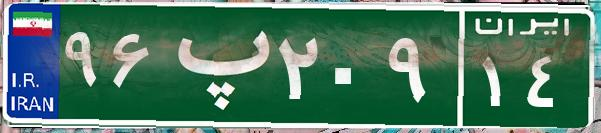0: (330, 28, 385, 110)
1: (475, 38, 525, 113)
2: (273, 28, 330, 110)
4: (525, 38, 570, 115)
6: (110, 28, 158, 105)
9: (385, 28, 445, 110), (57, 26, 110, 107)
پ: (158, 15, 273, 115)
